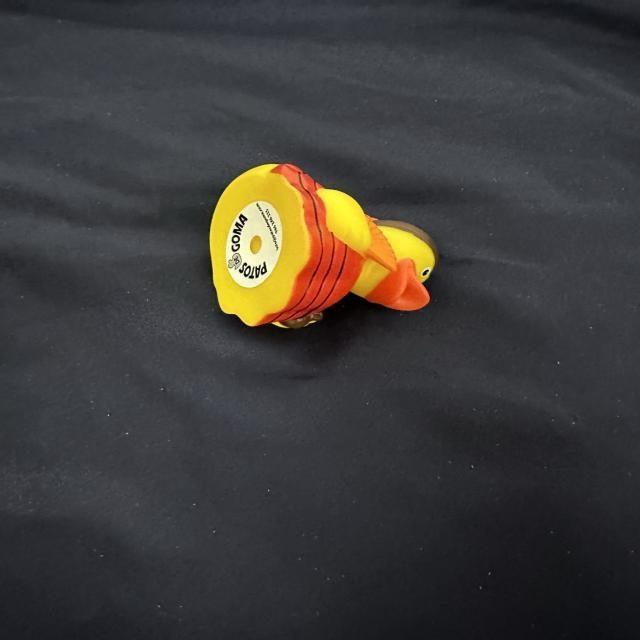rubber-duck: (209, 163, 435, 325)
